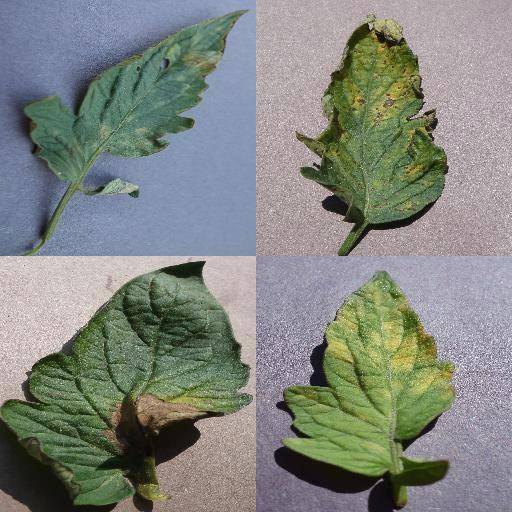Late Blight: (0, 258, 255, 508)
Leaf Mold: (26, 7, 250, 183), (282, 269, 456, 475)
Septoria: (296, 14, 449, 226)
